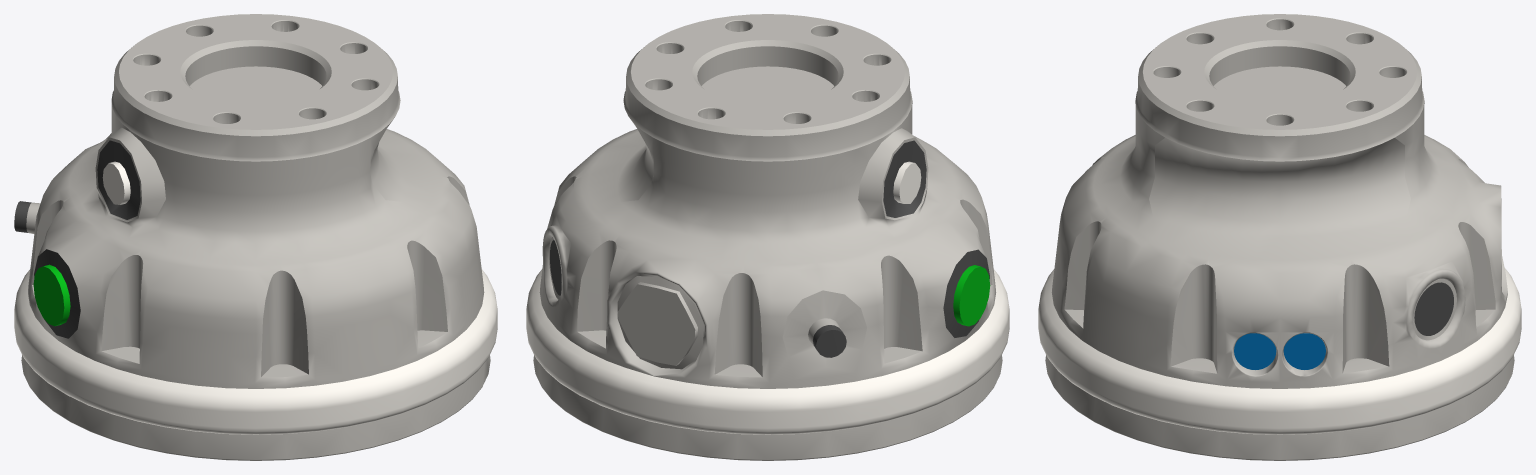
3 renders of one model, left to right at view 1: azimuth 30°, elevation 25°; view 2: azimuth 150°, elevation 25°; view 3: azimuth 270°, elevation 25°, orthographic.
Parts seen in each view (by area): view 1: 7 pneum; view 2: 7 pneum; view 3: 7 pneum.
Boxes of the visible parts, x1=… form: 7 pneum: x1=14, y1=14, x2=497, y2=460; 7 pneum: x1=526, y1=14, x2=1009, y2=460; 7 pneum: x1=1038, y1=14, x2=1521, y2=460.
Size of the model in its own units: 0.107 by 0.107 by 0.071.
